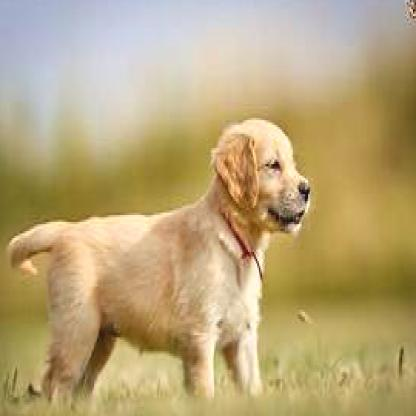dog: (8, 118, 311, 397)
